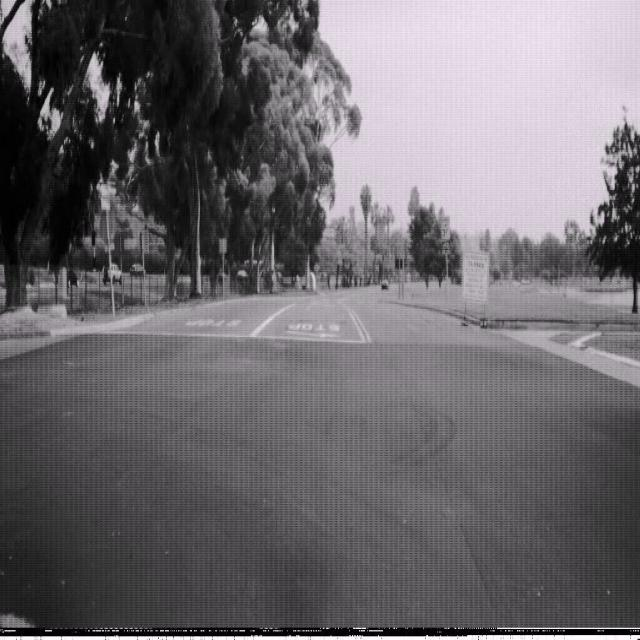speedLimit30: (440, 213, 450, 240)
